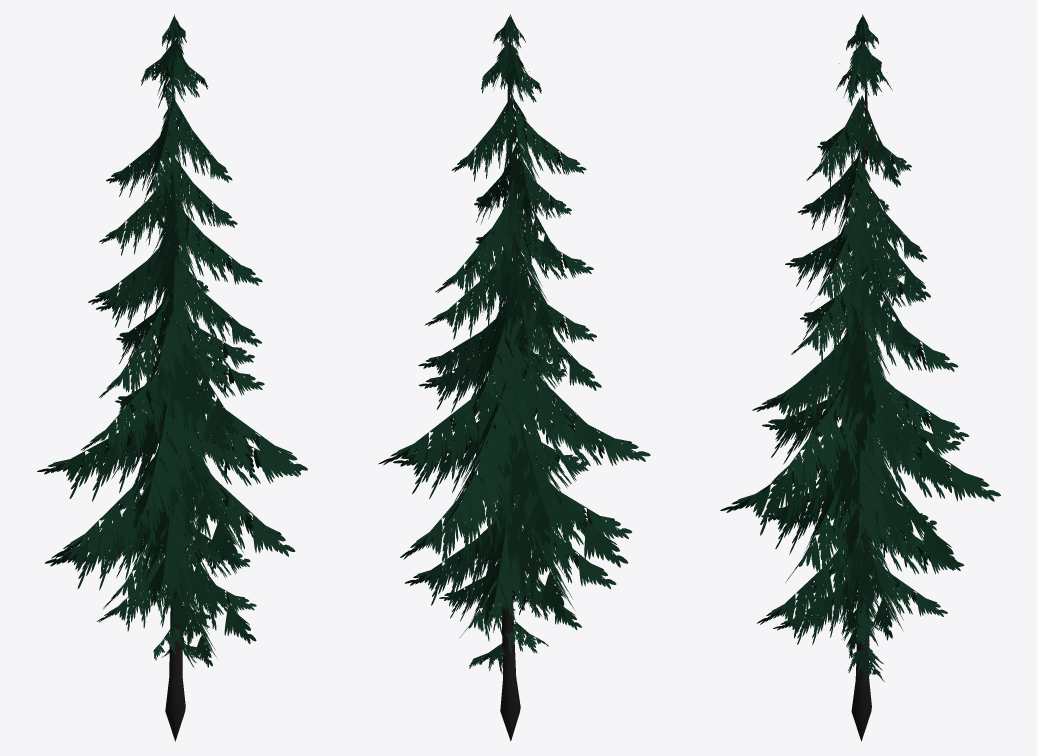
The model's file is pine_medium.glb.
3 renders of one model, left to right at view 1: azimuth 30°, elevation 25°; view 2: azimuth 150°, elevation 25°; view 3: azimuth 270°, elevation 25°, orthographic.
Visible parts, largest first — view 1: Object_15, Object_14; view 2: Object_15, Object_14; view 3: Object_15, Object_14.
Part boxes in pixels (box(x1,y1,x2,y2)): Object_15: box(37, 14, 307, 667); Object_14: box(165, 42, 185, 741); Object_15: box(378, 14, 650, 674); Object_14: box(500, 37, 520, 741); Object_15: box(720, 14, 1000, 682); Object_14: box(851, 36, 871, 741).
Size of the model in its own units: 6.97 by 17.24 by 6.97.
2 materials, 1 textured.
